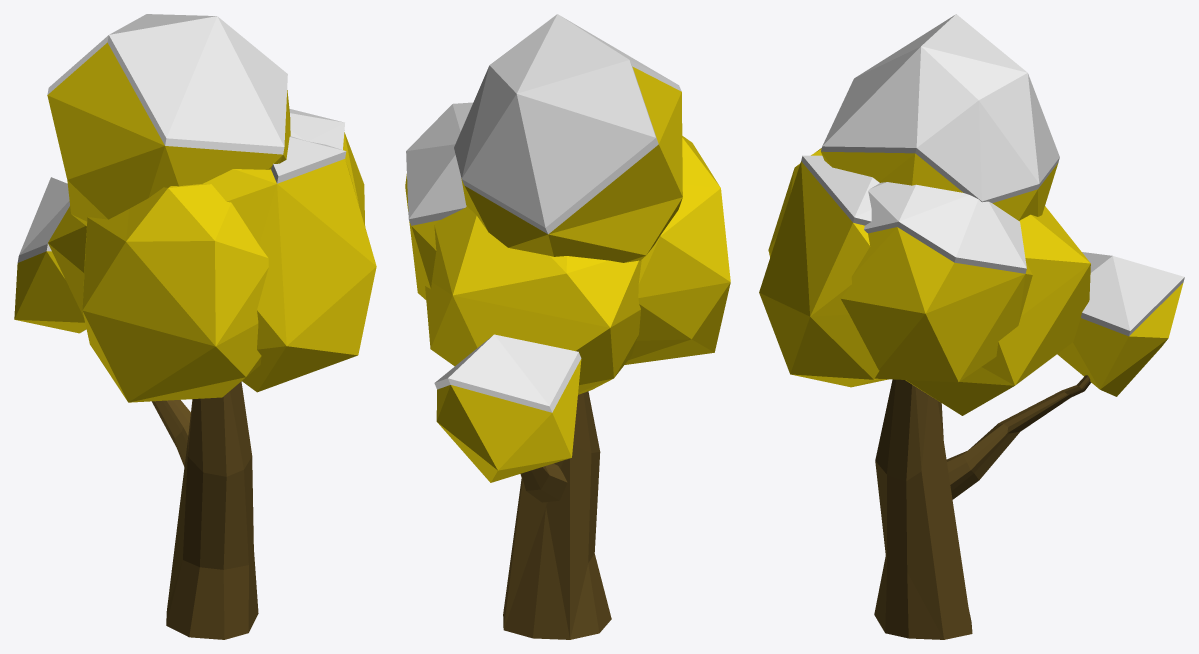
The model's file is Tree#6_Snow.fbx.
3 renders of one model, left to right at view 1: azimuth 30°, elevation 25°; view 2: azimuth 150°, elevation 25°; view 3: azimuth 270°, elevation 25°, orthographic. The views are drawn at different scales.
Parts seen in each view (by area): view 1: Tree#6_Snow; view 2: Tree#6_Snow; view 3: Tree#6_Snow.
Boxes of the visible parts, x1,y1,x2,y2 form: Tree#6_Snow: (14,14,376,639); Tree#6_Snow: (405,14,730,639); Tree#6_Snow: (759,14,1184,639).
Size of the model in its own units: 1080 by 2066 by 1372.
